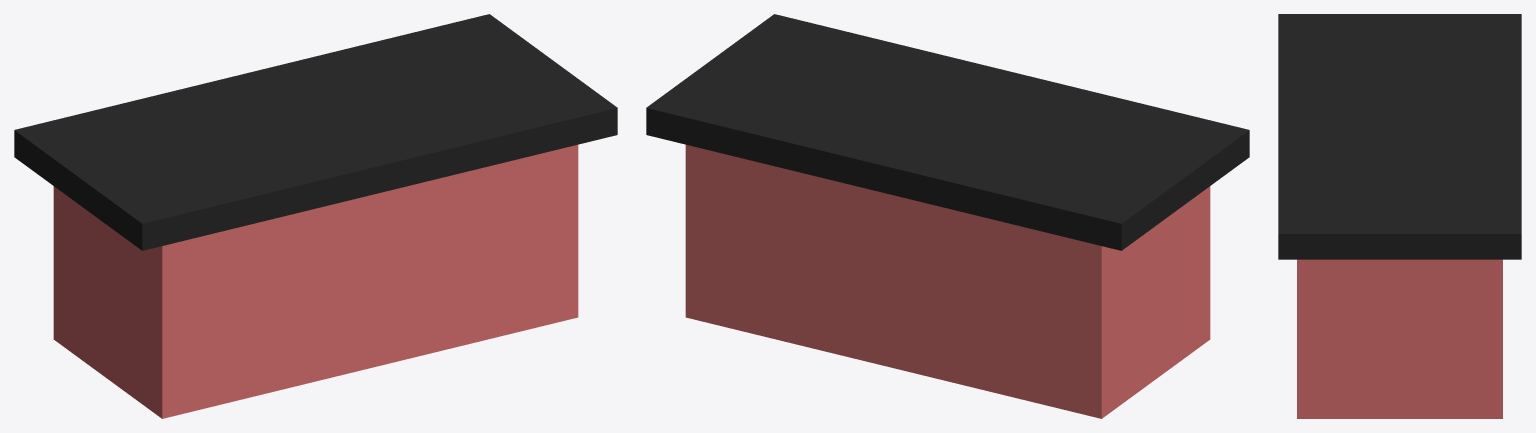
The model's file is Desk_Teacher.fbx.
The picture shows the model from 3 angles, left to right: view 1: azimuth 30°, elevation 25°; view 2: azimuth 150°, elevation 25°; view 3: azimuth 270°, elevation 25°; orthographic projection. The views are drawn at different scales.
Parts seen in each view (by area): view 1: Desk_Teacher; view 2: Desk_Teacher; view 3: Desk_Teacher.
Part boxes in pixels (box(x1,y1,x2,y2)): Desk_Teacher: box(14, 14, 617, 418); Desk_Teacher: box(646, 14, 1249, 418); Desk_Teacher: box(1278, 14, 1521, 418).
Size of the model in its own units: 12.32 by 5.19 by 5.76.
